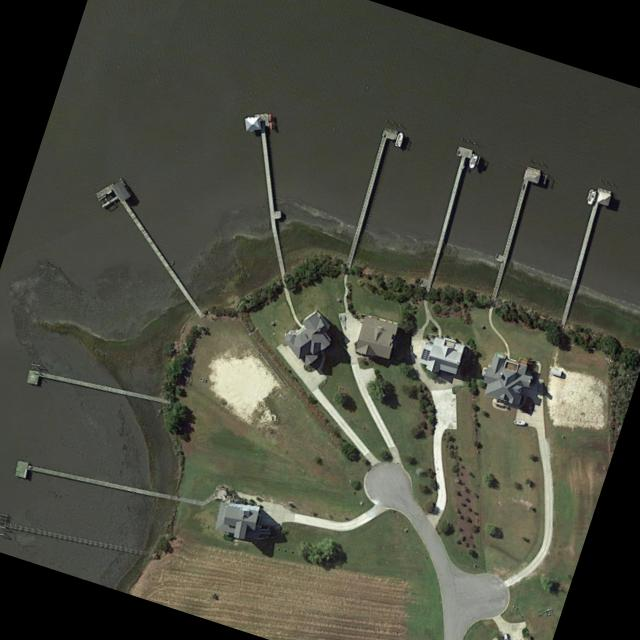ship: (394, 129, 405, 147), (468, 152, 479, 170), (586, 187, 596, 204), (513, 418, 525, 425)
small-vehicle: (502, 632, 509, 640)
